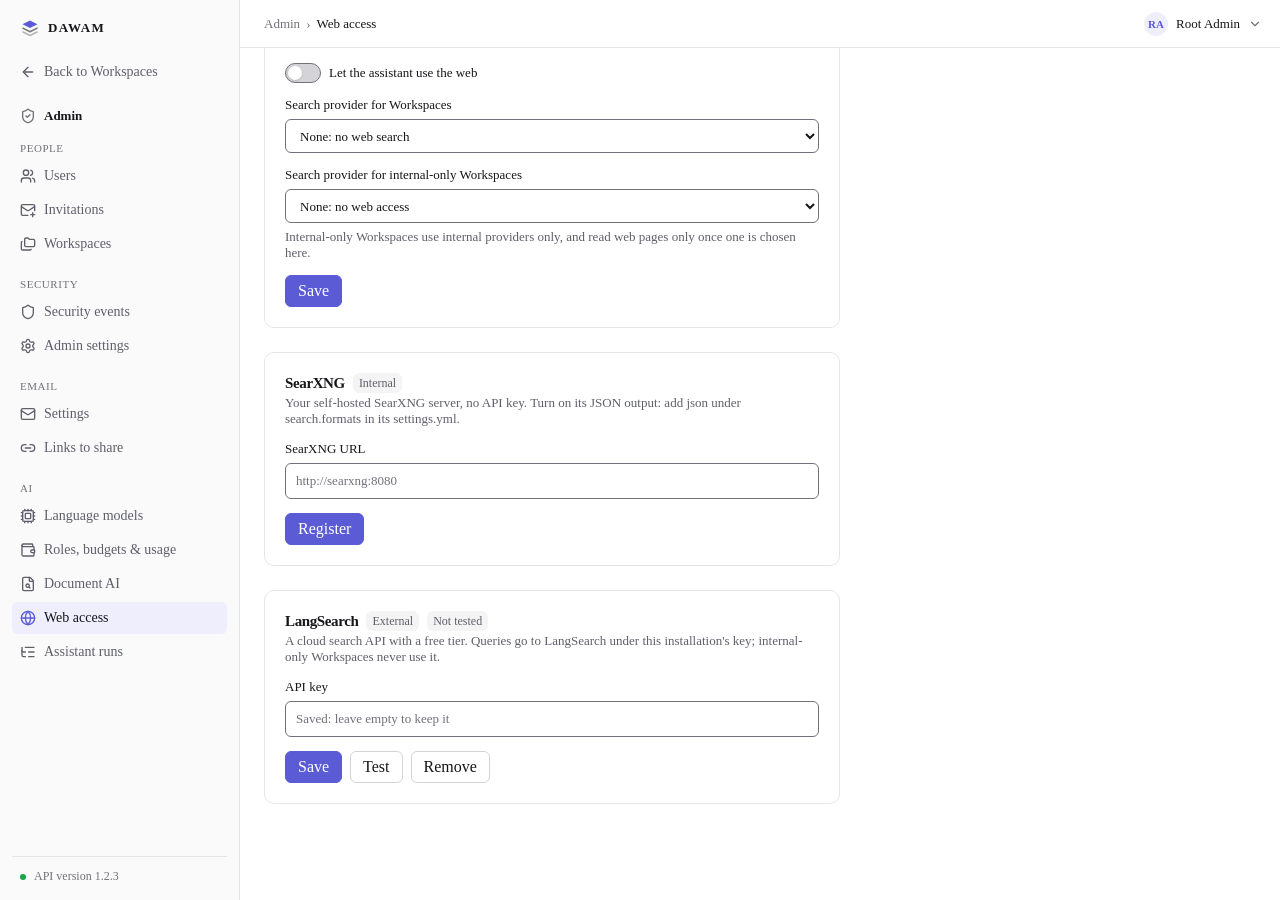
web access admin page › tests a provider and shows why it failed
This screenshot has width=1280, height=900.
(page scrolled)
Click the button "Test" at point(376, 767), box [350,751,402,783]
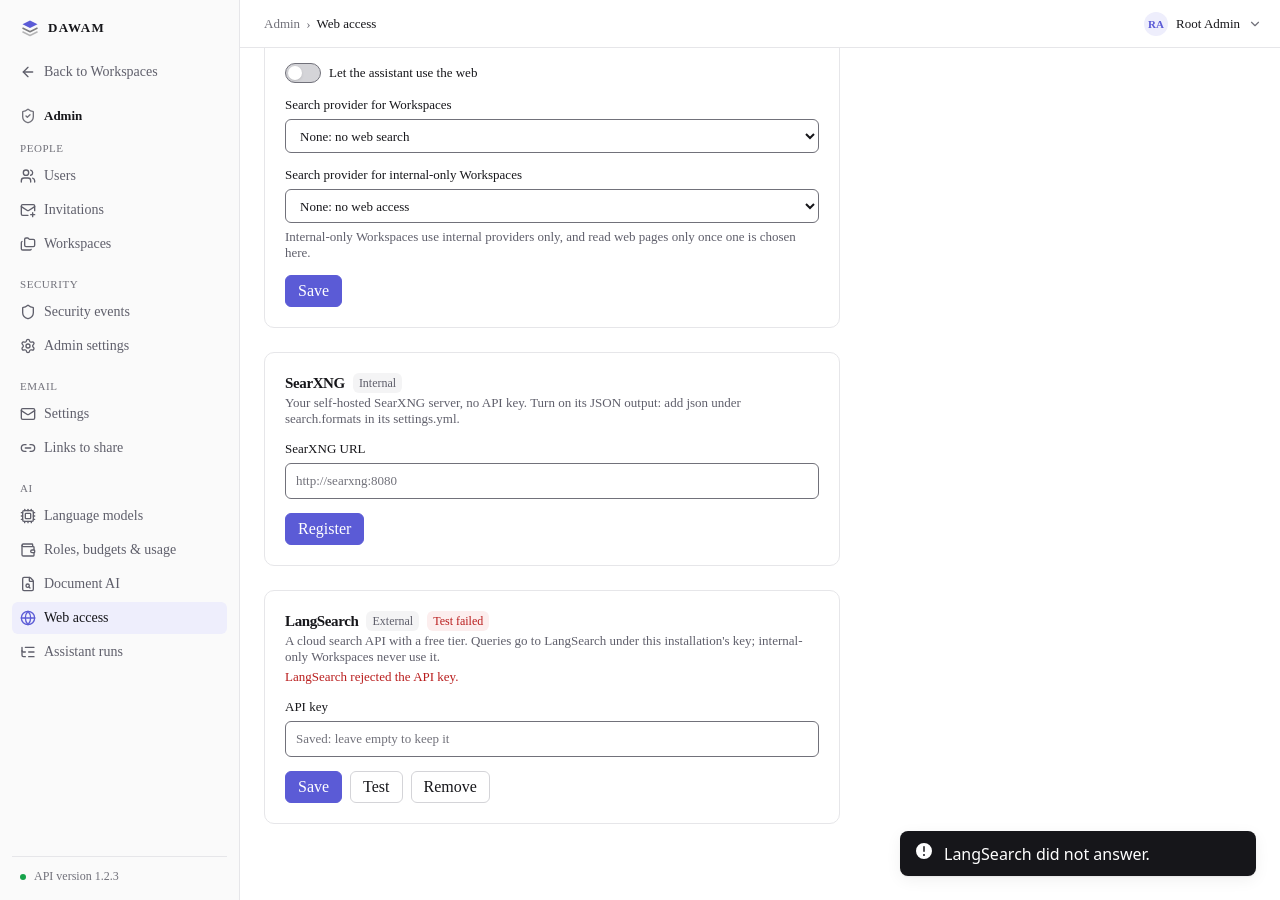
Expected: the text "LangSearch rejected the API key." is shown, [285,669,458,684]
Expected: the text "Test failed" is shown, [427,611,489,631]
